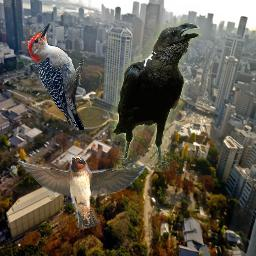Crow: (110, 19, 203, 172)
Swallow: (15, 155, 149, 230)
Woodpecker: (25, 23, 84, 130)
